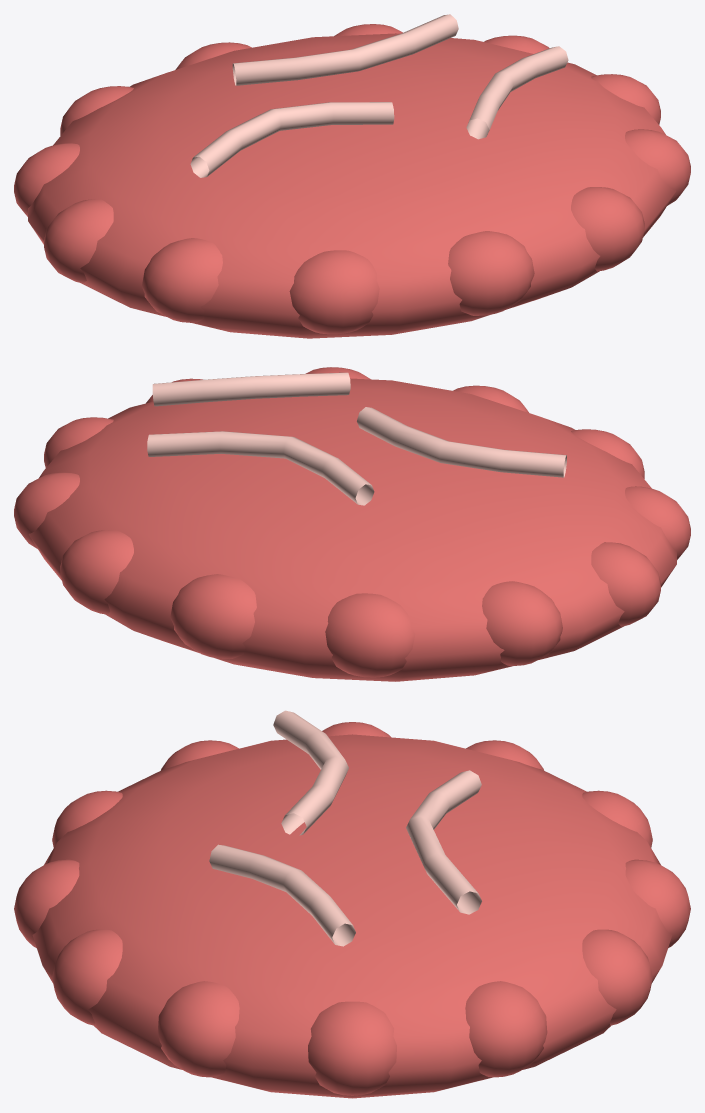
Rendered from BeefChopped.fbx.
3 renders of one model, top to bottom at view 1: azimuth 30°, elevation 25°; view 2: azimuth 150°, elevation 25°; view 3: azimuth 270°, elevation 25°, orthographic. The views are drawn at different scales.
Visible parts, largest first — view 1: MAT_BeefRaw Geometry.001, MAT_BeefFat Geometry.001; view 2: MAT_BeefRaw Geometry.001, MAT_BeefFat Geometry.001; view 3: MAT_BeefRaw Geometry.001, MAT_BeefFat Geometry.001.
Part boxes in pixels (x1,y1,x2,y2): MAT_BeefRaw Geometry.001: (14, 24, 690, 338); MAT_BeefFat Geometry.001: (190, 14, 568, 177); MAT_BeefRaw Geometry.001: (14, 367, 690, 681); MAT_BeefFat Geometry.001: (147, 372, 566, 505); MAT_BeefRaw Geometry.001: (14, 722, 690, 1098); MAT_BeefFat Geometry.001: (209, 710, 481, 946).
Size of the model in its own units: 93 by 27.6 by 81.
